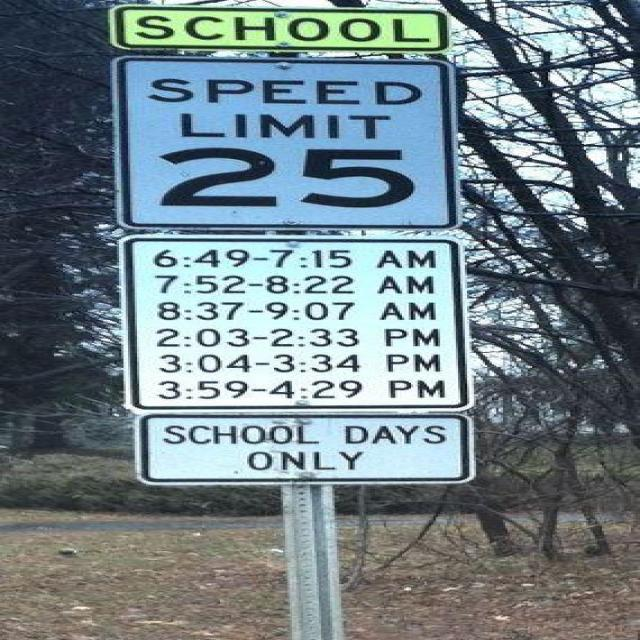speedLimit25: (116, 56, 459, 234)
